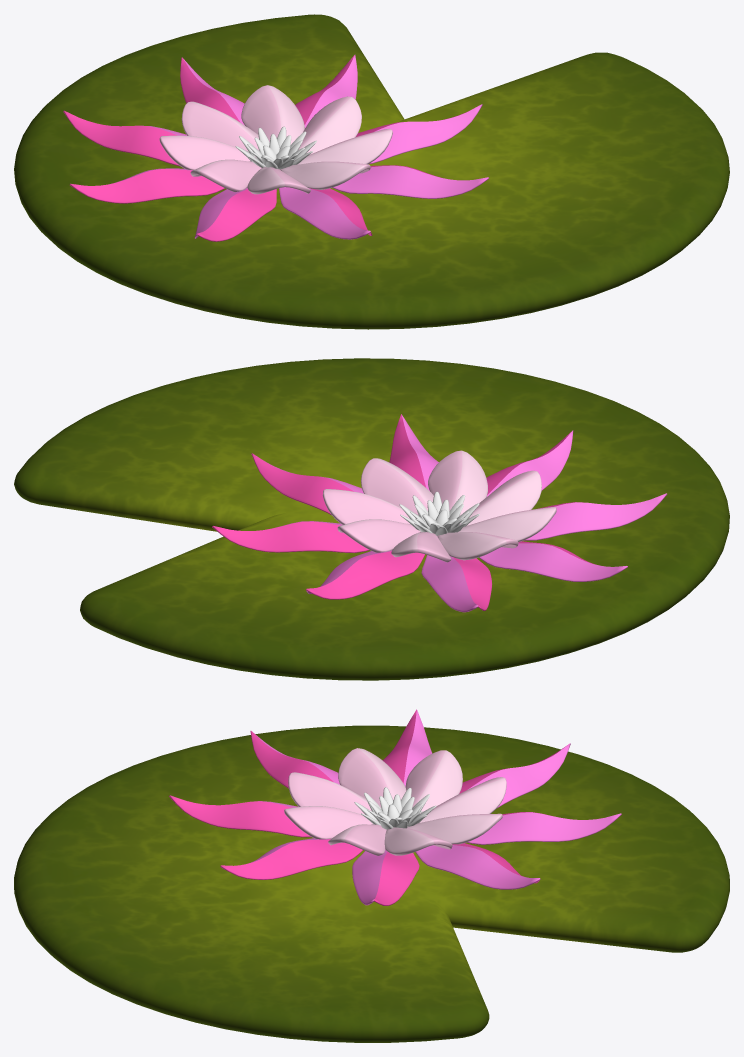
Rendered from flower.glb.
The picture shows the model from 3 angles, top to bottom: view 1: azimuth 30°, elevation 25°; view 2: azimuth 150°, elevation 25°; view 3: azimuth 270°, elevation 25°; orthographic projection.
Parts seen in each view (by area): view 1: obj_lilypad-s_8, obj_lilypad-s_flower_1_6, obj_lilypad-s_flower_0_5; view 2: obj_lilypad-s_8, obj_lilypad-s_flower_1_6, obj_lilypad-s_flower_0_5; view 3: obj_lilypad-s_8, obj_lilypad-s_flower_1_6, obj_lilypad-s_flower_0_5.
Part boxes in pixels (x1,y1,x2,y2): obj_lilypad-s_8: [14, 14, 729, 329]; obj_lilypad-s_flower_1_6: [63, 54, 489, 241]; obj_lilypad-s_flower_0_5: [159, 85, 392, 194]; obj_lilypad-s_8: [14, 358, 729, 680]; obj_lilypad-s_flower_1_6: [212, 414, 667, 612]; obj_lilypad-s_flower_0_5: [322, 450, 556, 562]; obj_lilypad-s_8: [14, 725, 729, 1042]; obj_lilypad-s_flower_1_6: [169, 709, 621, 905]; obj_lilypad-s_flower_0_5: [284, 748, 506, 855].
Bounding box in the file's own units: 4.49 × 0.4463 × 4.49.
Materials: 4 (3 with a texture image).
